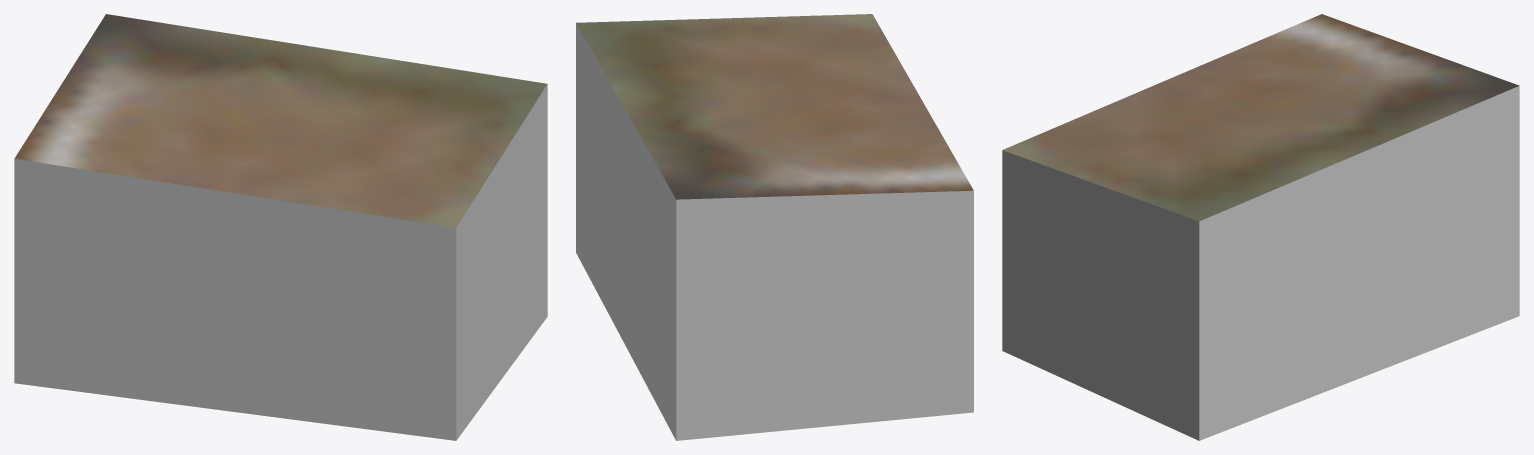
The model's file is DEBW_0010007Txcd.gltf.
The picture shows the model from 3 angles, left to right: view 1: azimuth 30°, elevation 25°; view 2: azimuth 150°, elevation 25°; view 3: azimuth 270°, elevation 25°; orthographic projection. The views are drawn at different scales.
Visible parts, largest first — view 1: Z_UP; view 2: Z_UP; view 3: Z_UP.
Part boxes in pixels (x1,y1,x2,y2): Z_UP: (14,14,547,440); Z_UP: (576,14,973,440); Z_UP: (1002,14,1519,440).
Size of the model in its own units: 5.69 by 2.84 by 5.78.
Materials: 2 (1 with a texture image).
